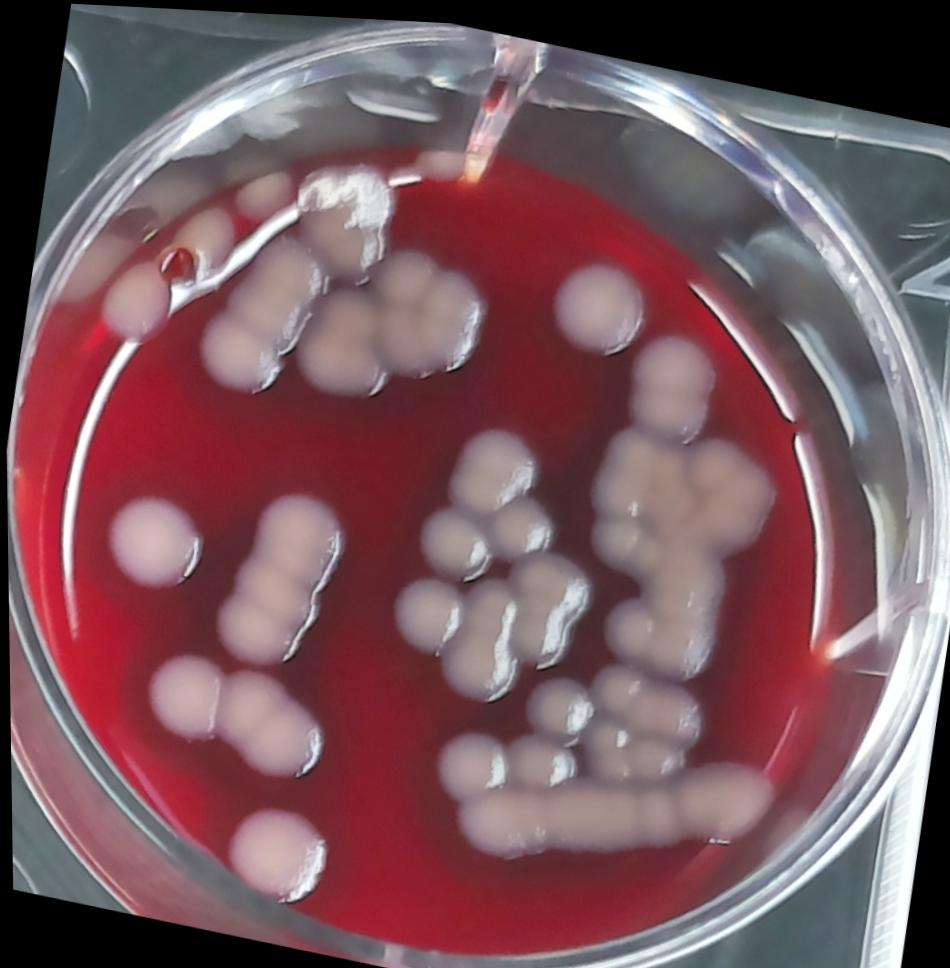bcereus: (439, 741, 678, 889), (200, 472, 350, 678), (362, 235, 500, 391), (205, 656, 336, 795), (207, 786, 341, 913), (92, 477, 216, 606), (218, 220, 331, 353), (679, 425, 787, 559), (288, 276, 396, 404), (579, 413, 697, 527), (544, 243, 653, 362), (615, 320, 721, 442), (289, 170, 393, 289), (671, 740, 777, 848), (439, 411, 545, 518), (128, 637, 227, 747), (182, 309, 286, 402), (91, 245, 179, 352), (379, 564, 469, 657), (408, 491, 497, 584), (501, 538, 594, 624), (430, 619, 520, 706), (639, 531, 731, 616), (478, 484, 561, 568), (429, 720, 512, 801), (632, 664, 710, 750), (645, 599, 720, 681), (167, 192, 237, 278), (517, 661, 593, 740), (501, 720, 583, 793), (589, 582, 658, 664), (228, 155, 301, 228), (570, 700, 637, 779), (458, 563, 523, 639), (502, 601, 574, 668), (572, 507, 645, 573), (584, 648, 652, 717), (396, 129, 468, 188)
